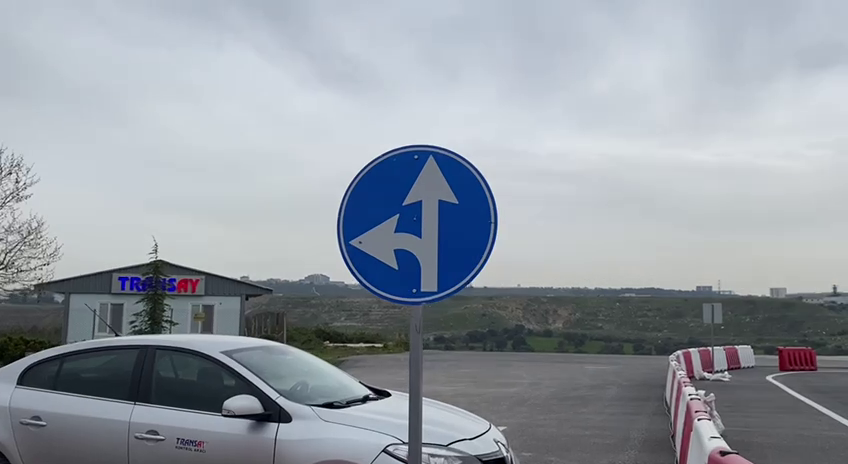forwardAndLeft: (335, 138, 501, 308)
